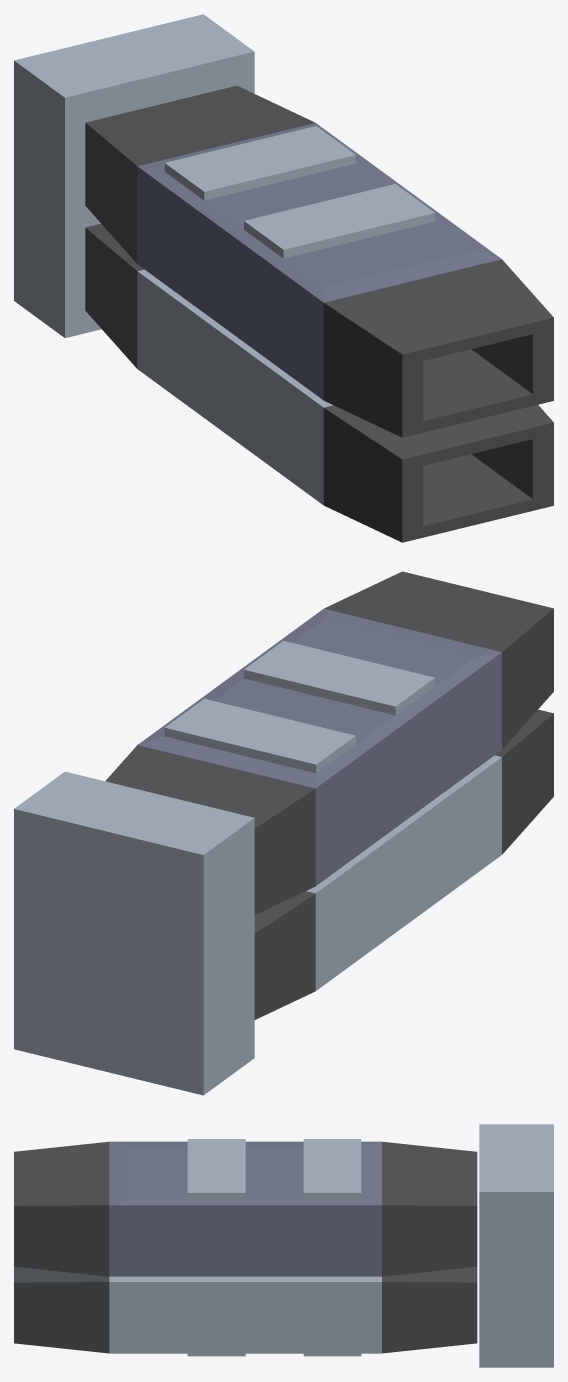
The model's file is FirstGun.fbx.
The picture shows the model from 3 angles, top to bottom: view 1: azimuth 30°, elevation 25°; view 2: azimuth 150°, elevation 25°; view 3: azimuth 270°, elevation 25°; orthographic projection. The views are drawn at different scales.
Visible parts, largest first — view 1: Cube; view 2: Cube; view 3: Cube.
Boxes of the visible parts, x1,y1,x2,y2 form: Cube: (14,14,553,542); Cube: (14,571,553,1095); Cube: (14,1124,553,1367).
Bounding box in the file's own units: 52.95 × 64.17 × 179.
